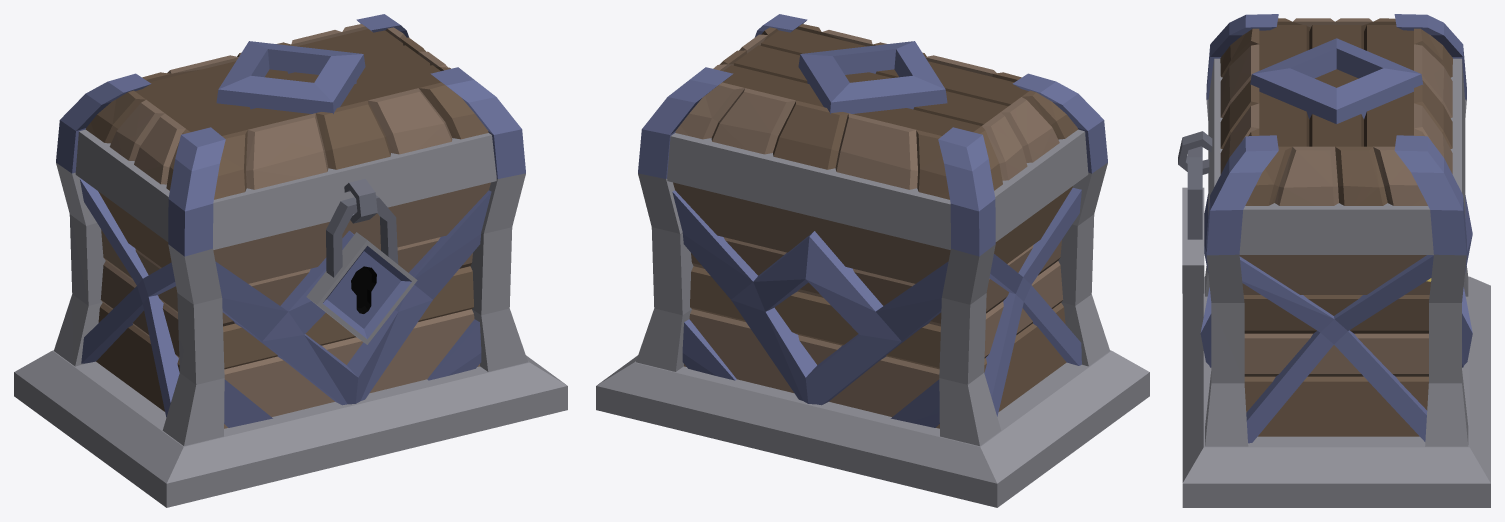
The model's file is _trunk_6.fbx.
3 views of the same model, side by side, from view 1: azimuth 30°, elevation 25°; view 2: azimuth 150°, elevation 25°; view 3: azimuth 270°, elevation 25° (orthographic).
Visible parts, largest first — view 1: trunk_6; view 2: trunk_6; view 3: trunk_6.
Boxes of the visible parts, x1=… form: trunk_6: x1=14, y1=14, x2=567, y2=507; trunk_6: x1=596, y1=14, x2=1149, y2=507; trunk_6: x1=1178, y1=14, x2=1490, y2=507.
Size of the model in its own units: 102 by 81.77 by 67.98.
